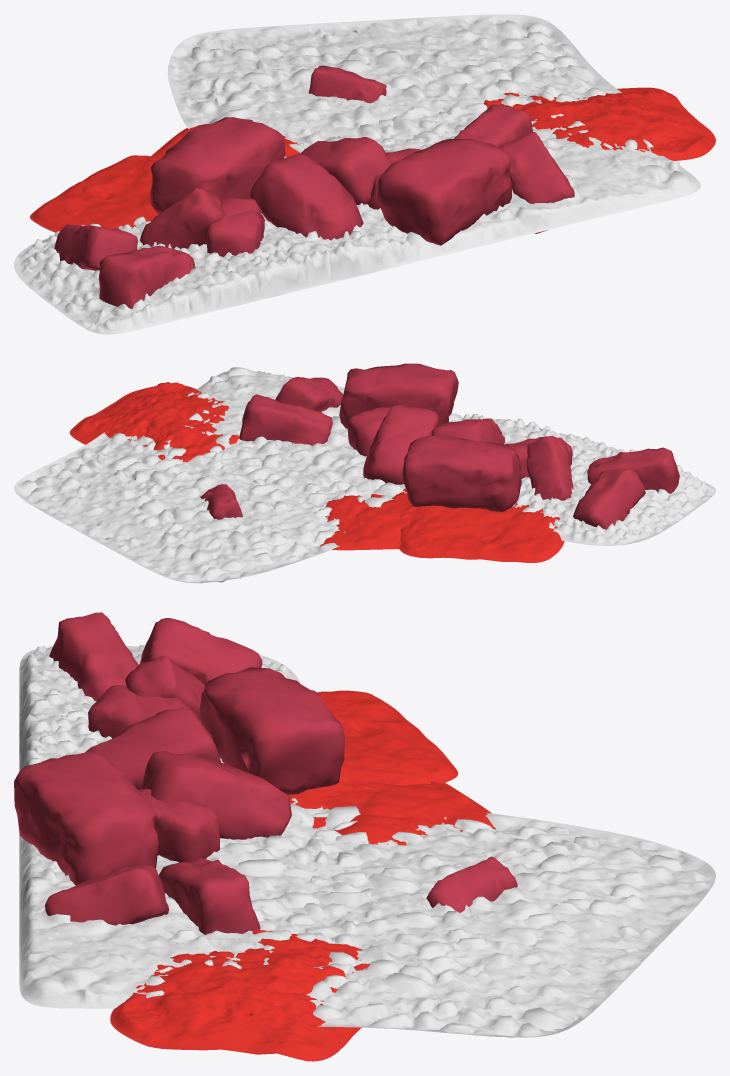
The model's file is DirtGround_Mesh_V2.fbx.
The picture shows the model from 3 angles, top to bottom: view 1: azimuth 30°, elevation 25°; view 2: azimuth 150°, elevation 25°; view 3: azimuth 270°, elevation 25°; orthographic projection. The views are drawn at different scales.
Visible parts, largest first — view 1: DirtGround_MeshV3_LOD0; view 2: DirtGround_MeshV3_LOD0; view 3: DirtGround_MeshV3_LOD0.
Part boxes in pixels (bbox=[...]): DirtGround_MeshV3_LOD0: bbox=[14, 14, 715, 334]; DirtGround_MeshV3_LOD0: bbox=[14, 363, 715, 583]; DirtGround_MeshV3_LOD0: bbox=[14, 612, 715, 1061].
Size of what is drawn, in the model's own units: 349 by 46.39 by 255.
